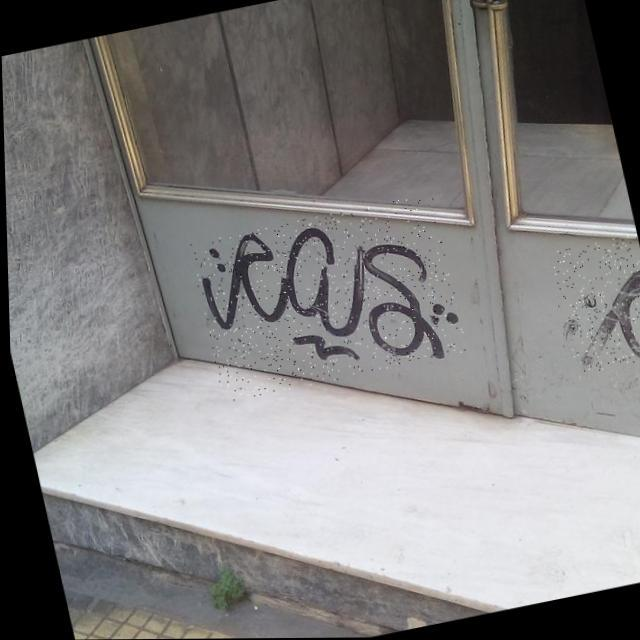-: (185, 194, 467, 404), (549, 234, 640, 376)
